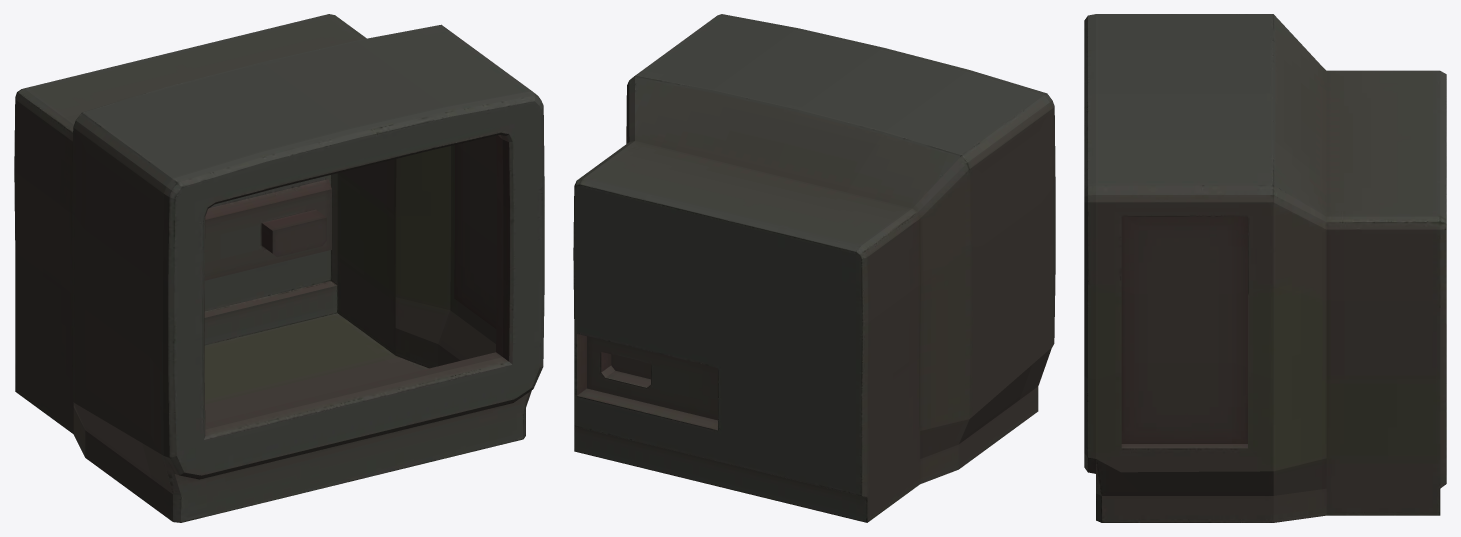
The model's file is crt_base.glb.
The picture shows the model from 3 angles, left to right: view 1: azimuth 30°, elevation 25°; view 2: azimuth 150°, elevation 25°; view 3: azimuth 270°, elevation 25°; orthographic projection. The views are drawn at different scales.
Parts seen in each view (by area): view 1: CRT_Base; view 2: CRT_Base; view 3: CRT_Base.
Boxes of the visible parts, left/top/right/bottom form: CRT_Base: left=14, top=14, right=544, bottom=522; CRT_Base: left=573, top=14, right=1055, bottom=522; CRT_Base: left=1084, top=14, right=1446, bottom=522.
Bounding box in the file's own units: 0.5306 × 0.472 × 0.4487.
1 material, 1 textured.
